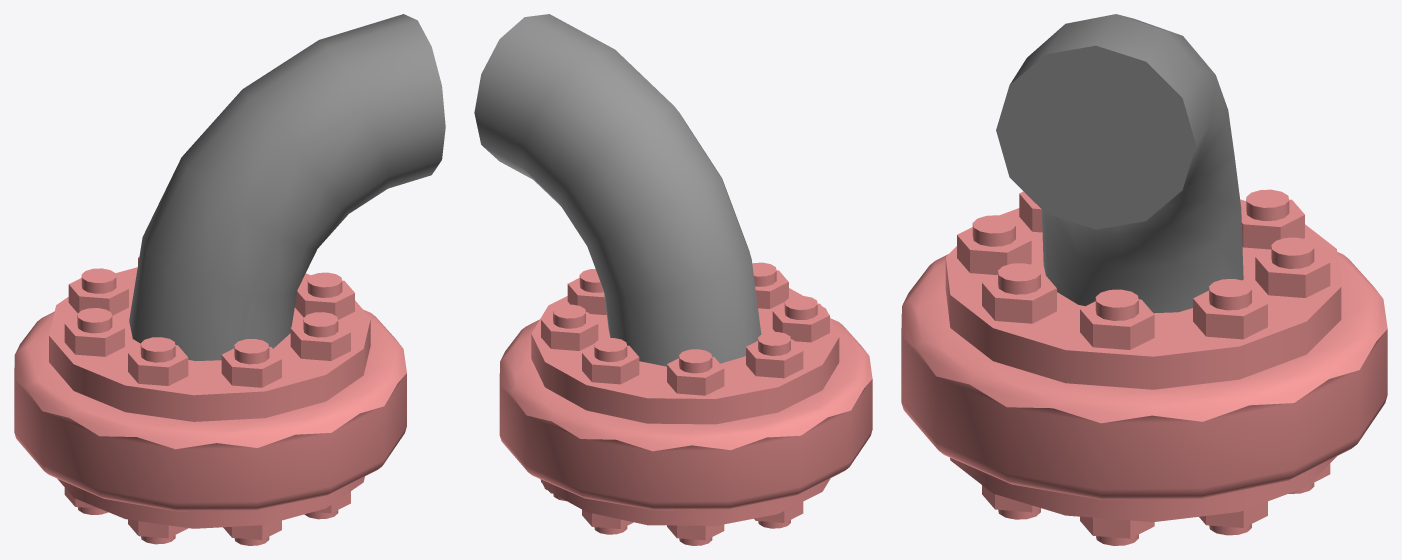
The model's file is SM_SUG_All_Right_02.gltf.
The picture shows the model from 3 angles, left to right: view 1: azimuth 30°, elevation 25°; view 2: azimuth 150°, elevation 25°; view 3: azimuth 270°, elevation 25°; orthographic projection. The views are drawn at different scales.
Visible parts, largest first — view 1: SM_SUG_All_Right_02; view 2: SM_SUG_All_Right_02; view 3: SM_SUG_All_Right_02.
Part boxes in pixels (x1,y1,x2,y2): SM_SUG_All_Right_02: (14,14,445,545); SM_SUG_All_Right_02: (474,14,872,545); SM_SUG_All_Right_02: (901,14,1387,545).
Size of the model in its own units: 0.1782 by 0.2005 by 0.163.
